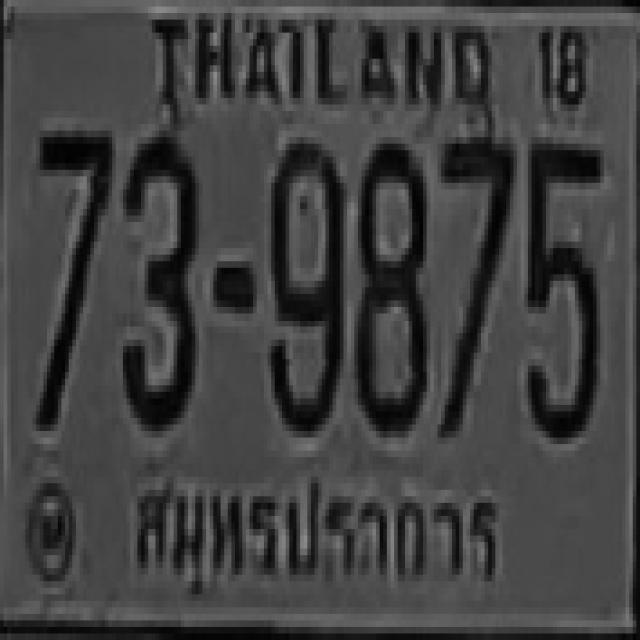3: (120, 130, 196, 424)
5: (524, 137, 600, 438)
7: (36, 124, 109, 425), (439, 131, 512, 431)
8: (354, 137, 423, 431)
9: (267, 134, 340, 428)
SamutPrakan: (127, 460, 508, 618)
